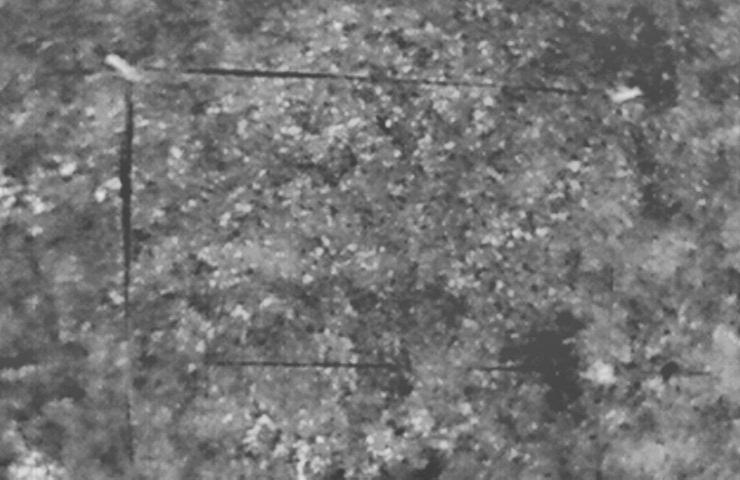landmines: (359, 252, 382, 273)
